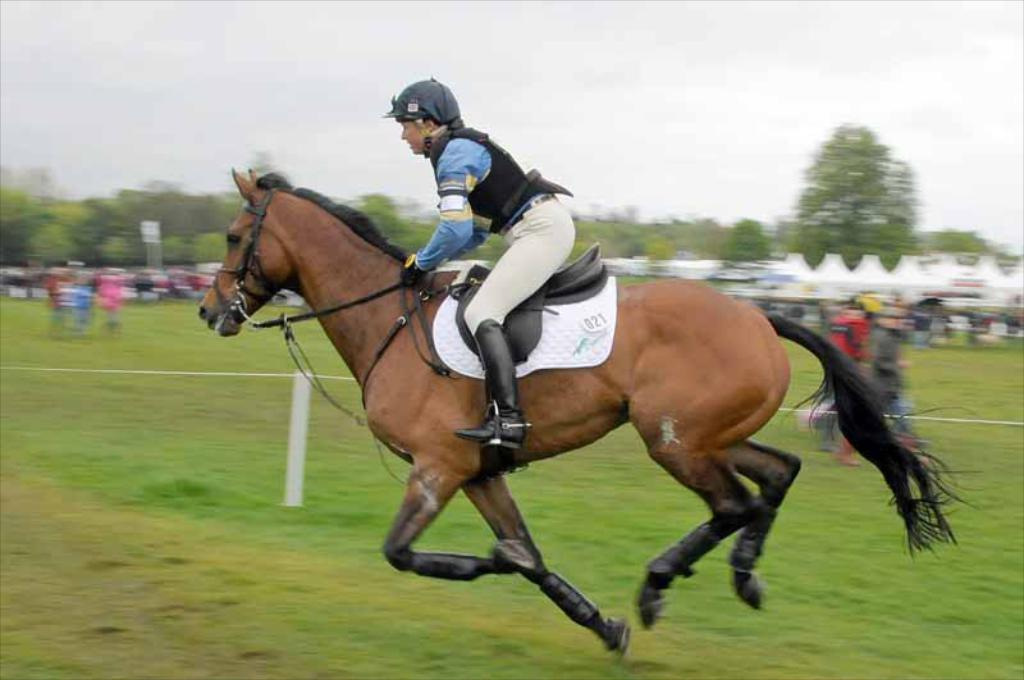horse: (196, 166, 985, 663)
